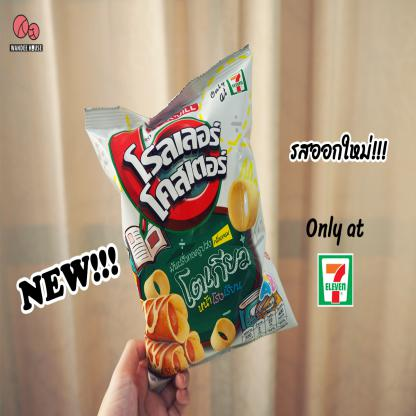potatochip: (85, 43, 301, 399)
